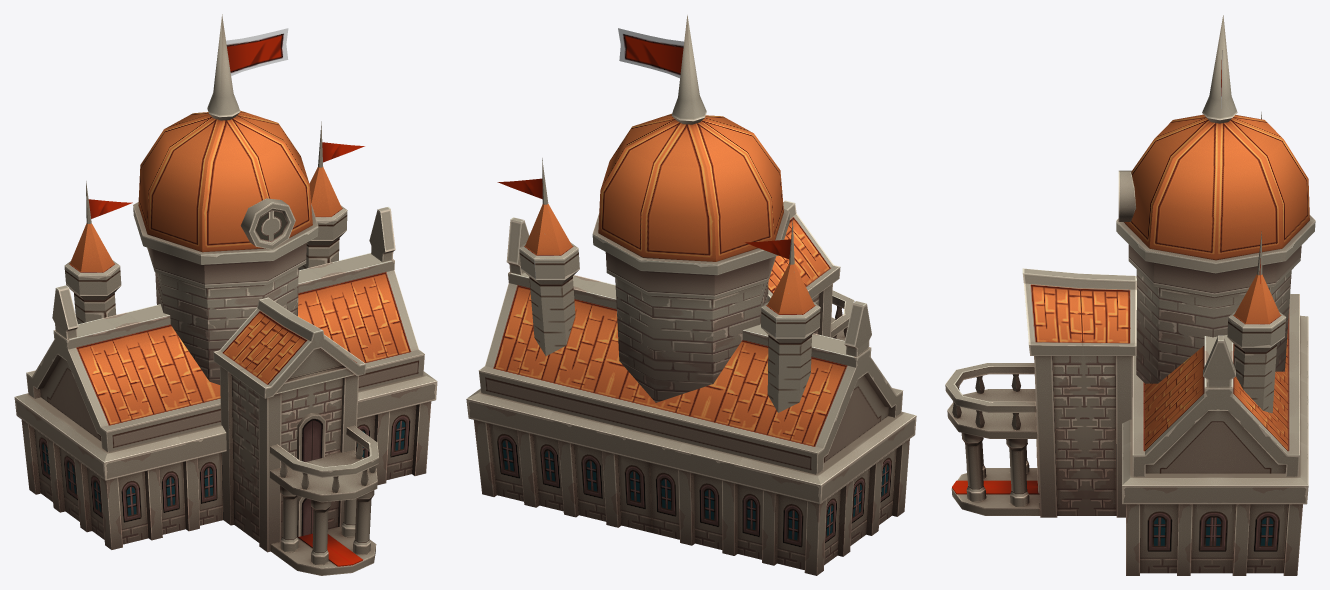
The model's file is building_18.FBX.
3 views of the same model, side by side, from view 1: azimuth 30°, elevation 25°; view 2: azimuth 150°, elevation 25°; view 3: azimuth 270°, elevation 25° (orthographic). The views are drawn at different scales.
Visible parts, largest first — view 1: Object001; view 2: Object001; view 3: Object001.
Boxes of the visible parts, x1=… form: Object001: x1=14, y1=14, x2=437, y2=575; Object001: x1=466, y1=15, x2=916, y2=575; Object001: x1=945, y1=15, x2=1315, y2=575.
Size of the model in its own units: 1164 by 1547 by 1077.
